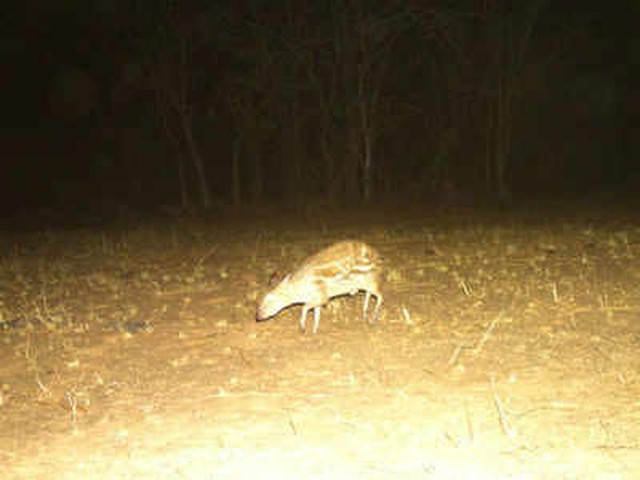deer: (249, 215, 404, 348)
